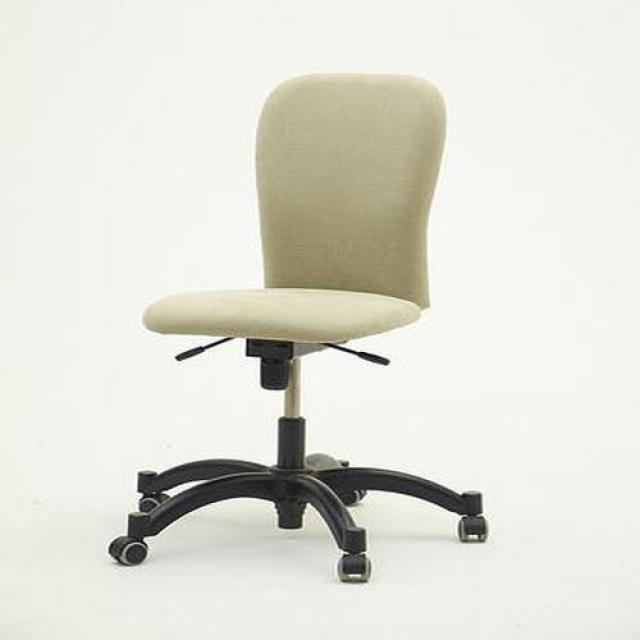swivelchair: (109, 73, 488, 586)
